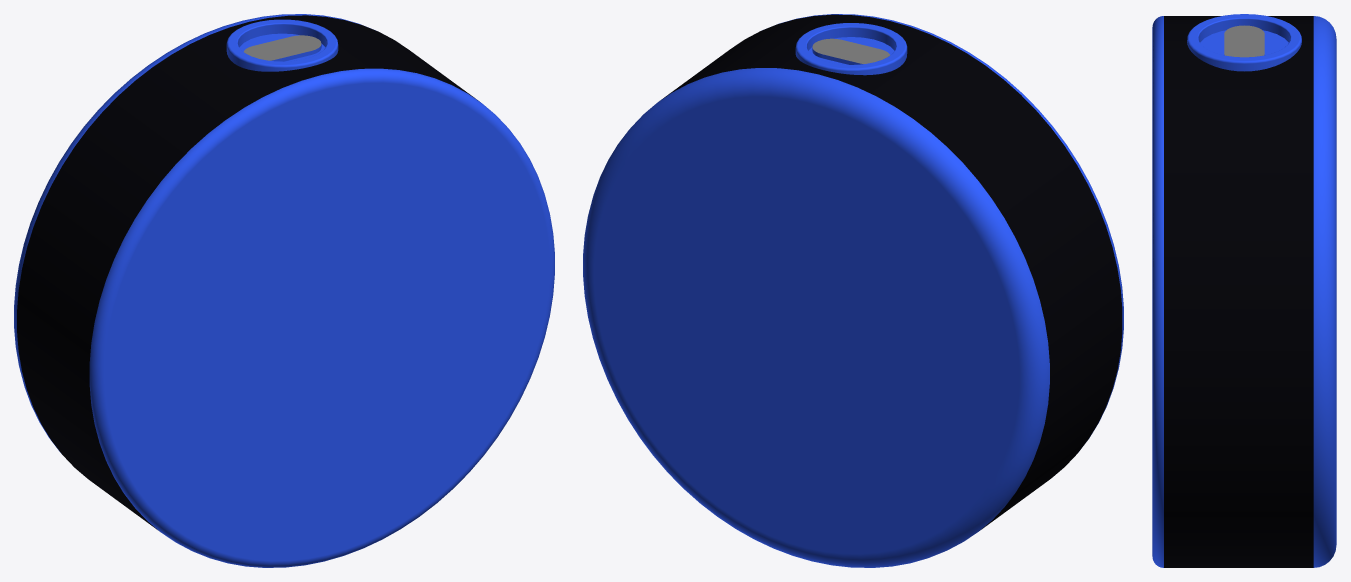
The model's file is rob.fbx.
The picture shows the model from 3 angles, left to right: view 1: azimuth 30°, elevation 25°; view 2: azimuth 150°, elevation 25°; view 3: azimuth 270°, elevation 25°; orthographic projection. The views are drawn at different scales.
Visible parts, largest first — view 1: 3DGeom~4, 3DGeom~5, 3DGeom~7, 3DGeom~6, 3DGeom~12, 3DGeom~8, 3DGeom~1; view 2: 3DGeom~3, 3DGeom~5, 3DGeom~6, 3DGeom~7, 3DGeom~12, 3DGeom~8, 3DGeom~1; view 3: 3DGeom~5, 3DGeom~6, 3DGeom~7, 3DGeom~8, 3DGeom~12, 3DGeom~2, 3DGeom~1, 3DGeom~9, 3DGeom~10, 3DGeom~11.
Boxes of the visible parts, x1,y1,x2,y2 form: 3DGeom~4: [105, 83, 549, 560]; 3DGeom~5: [17, 15, 479, 530]; 3DGeom~7: [89, 68, 554, 567]; 3DGeom~6: [14, 14, 375, 452]; 3DGeom~12: [244, 35, 321, 60]; 3DGeom~8: [229, 19, 335, 64]; 3DGeom~1: [238, 24, 326, 47]; 3DGeom~3: [594, 96, 1019, 553]; 3DGeom~5: [661, 14, 1122, 529]; 3DGeom~6: [583, 68, 1049, 567]; 3DGeom~7: [778, 14, 1123, 452]; 3DGeom~12: [812, 38, 889, 63]; 3DGeom~8: [798, 23, 904, 68]; 3DGeom~1: [807, 28, 895, 50]; 3DGeom~5: [1164, 16, 1313, 567]; 3DGeom~6: [1313, 16, 1336, 567]; 3DGeom~7: [1152, 16, 1163, 567]; 3DGeom~8: [1189, 14, 1299, 60]; 3DGeom~12: [1224, 25, 1264, 57]; 3DGeom~2: [1200, 30, 1288, 54]; 3DGeom~1: [1198, 19, 1290, 42]; 3DGeom~9: [1187, 38, 1301, 71]; 3DGeom~10: [1187, 14, 1301, 63]; 3DGeom~11: [1197, 17, 1291, 57].
Bounding box in the file's own units: 0.8918 × 0.2975 × 0.9.
